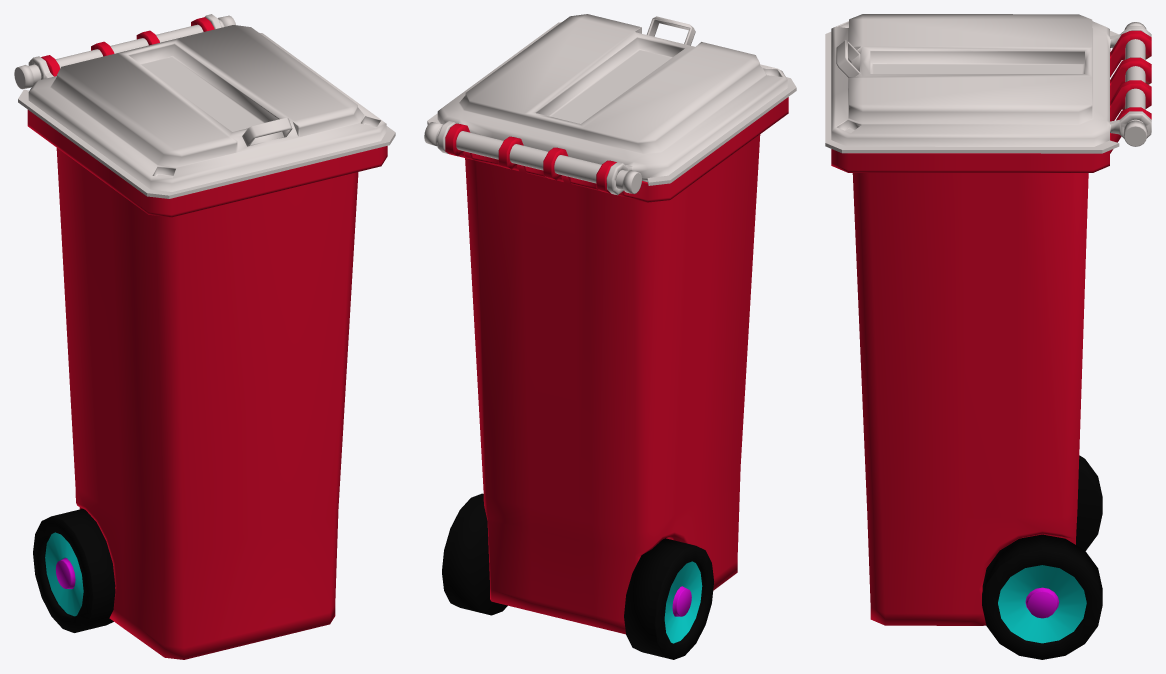
The model's file is mesh_TrashCart.fbx.
3 renders of one model, left to right at view 1: azimuth 30°, elevation 25°; view 2: azimuth 150°, elevation 25°; view 3: azimuth 270°, elevation 25°, orthographic. The views are drawn at different scales.
Visible parts, largest first — view 1: TrashCart_Main, LId, WHeels, axel; view 2: TrashCart_Main, LId, WHeels, axel; view 3: TrashCart_Main, LId, WHeels, axel.
Boxes of the visible parts, x1=… form: TrashCart_Main: x1=27, y1=17, x2=387, y2=659; LId: x1=18, y1=14, x2=395, y2=198; WHeels: x1=33, y1=508, x2=115, y2=632; axel: x1=14, y1=15, x2=235, y2=89; TrashCart_Main: x1=445, y1=97, x2=788, y2=634; LId: x1=427, y1=14, x2=796, y2=195; WHeels: x1=442, y1=493, x2=713, y2=659; axel: x1=424, y1=122, x2=641, y2=193; TrashCart_Main: x1=831, y1=30, x2=1151, y2=625; LId: x1=825, y1=14, x2=1151, y2=153; WHeels: x1=982, y1=455, x2=1102, y2=659; axel: x1=1123, y1=22, x2=1147, y2=146.
Bounding box in the file's own units: 63 × 134 × 70.89.
